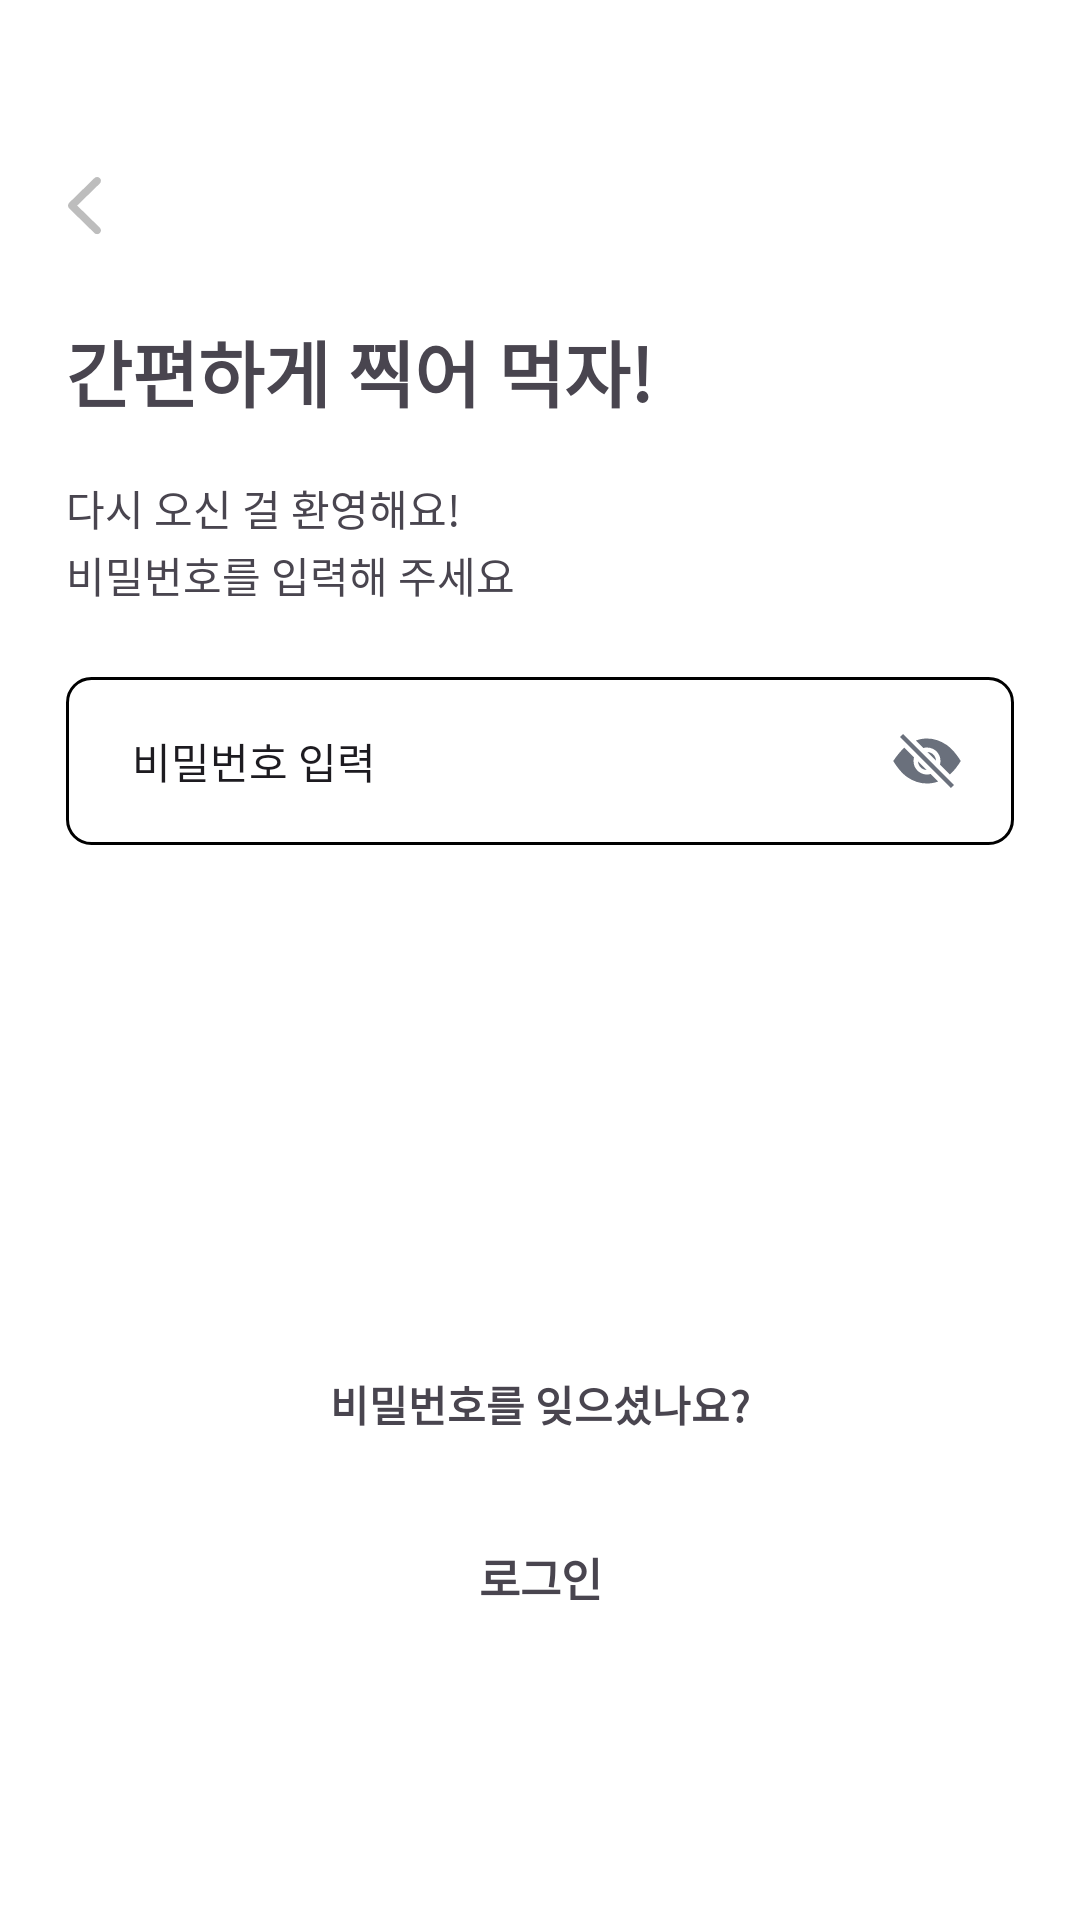

Screen size 1080x1920. Icon name, then its box in pixels as bbox=(x1, y1, x2, y2):
뒤로가기: bbox=(68, 177, 101, 234)
비밀번호 보기/숨기기: bbox=(893, 734, 961, 788)
